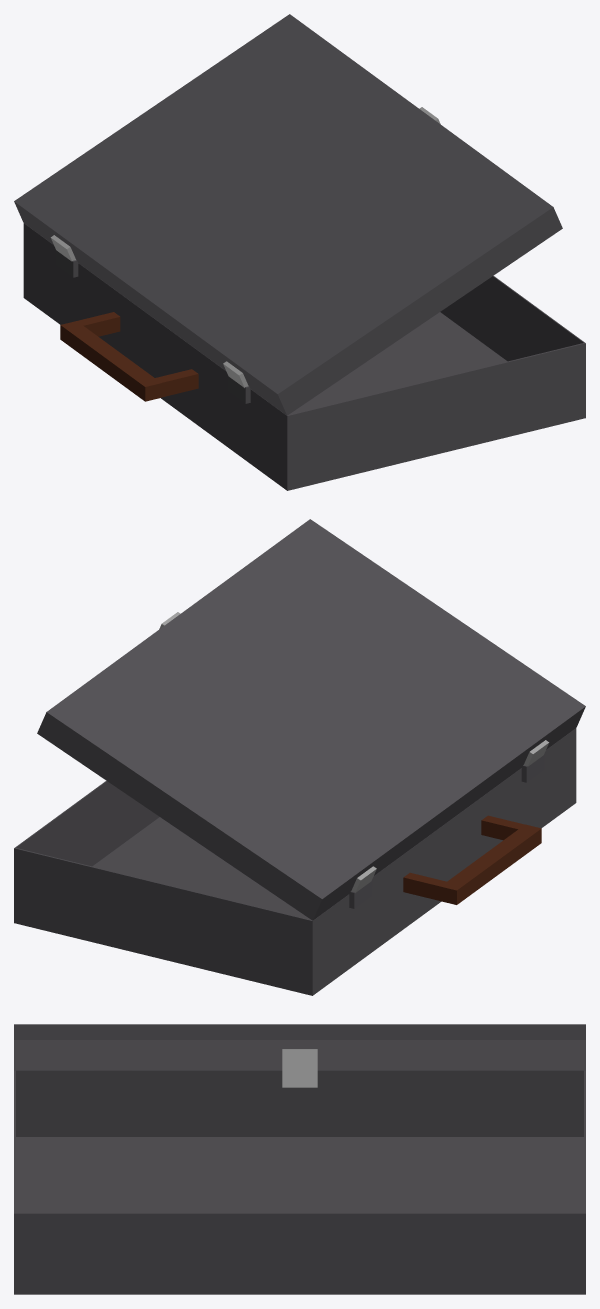
The model's file is (Noir)SuitcaseWIP.fbx.
3 renders of one model, top to bottom at view 1: azimuth 30°, elevation 25°; view 2: azimuth 150°, elevation 25°; view 3: azimuth 270°, elevation 25°, orthographic. The views are drawn at different scales.
Visible parts, largest first — view 1: SuitcaseLid, Suitcase; view 2: SuitcaseLid, Suitcase; view 3: Suitcase, SuitcaseLid.
Part boxes in pixels (<box>): SuitcaseLid: <box>14,14,562,415</box>; Suitcase: <box>23,223,585,490</box>; SuitcaseLid: <box>37,519,585,920</box>; Suitcase: <box>14,728,576,995</box>; Suitcase: <box>14,1070,585,1294</box>; SuitcaseLid: <box>14,1024,585,1087</box>.
Bounding box in the file's own units: 67.71 × 40.22 × 87.78.
